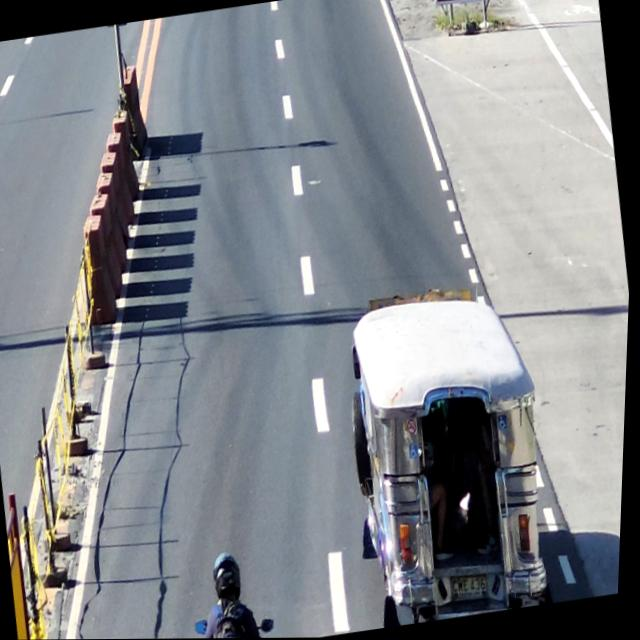Jeep: (335, 279, 567, 629)
License-Plate: (451, 571, 498, 614)
Motorcycle: (190, 547, 287, 639)
